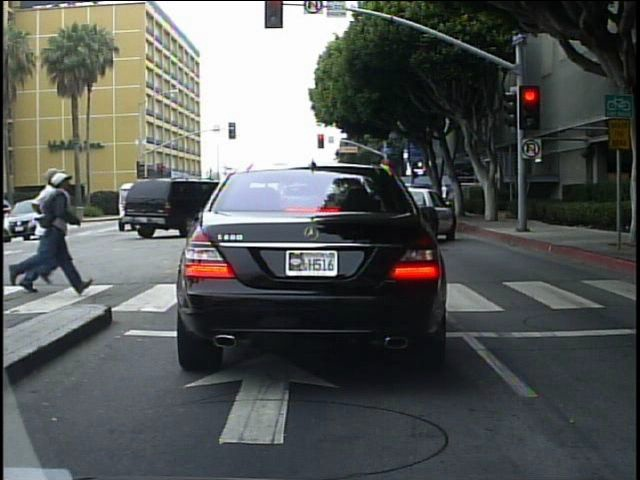person: (20, 170, 78, 294), (437, 179, 452, 215)
